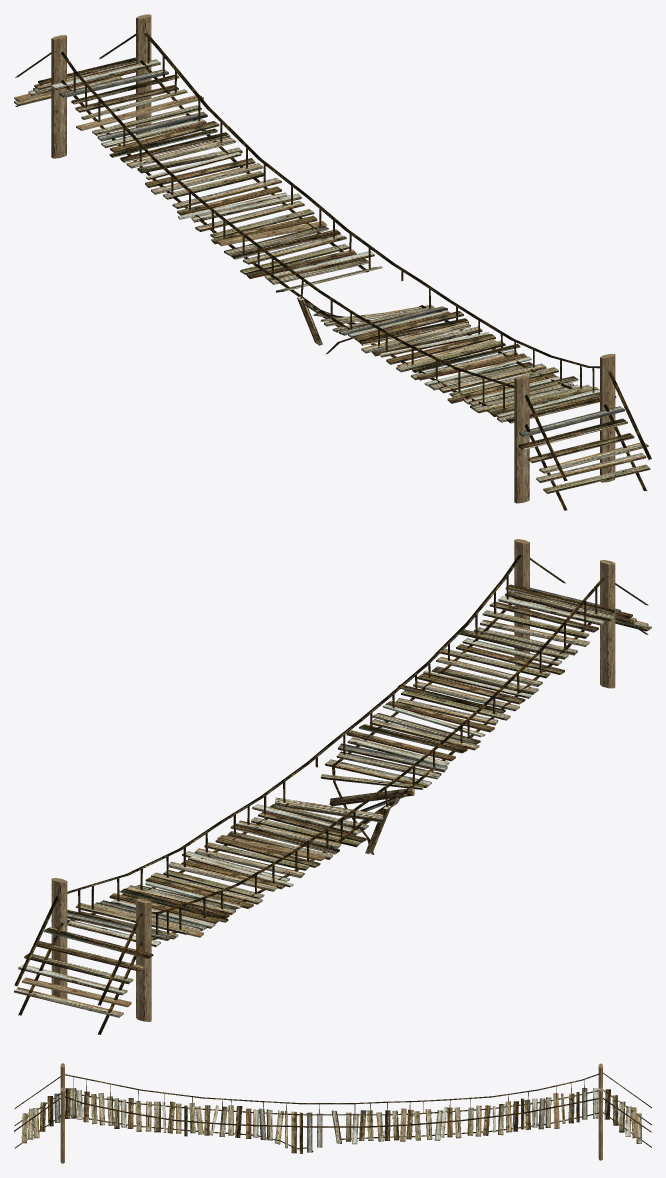
The model's file is broken_rope_bridge_long.glb.
3 renders of one model, top to bottom at view 1: azimuth 30°, elevation 25°; view 2: azimuth 150°, elevation 25°; view 3: azimuth 270°, elevation 25°, orthographic. The views are drawn at different scales.
Size of the model in its own units: 9.2 by 9.88 by 70.33.
Materials: 1 (1 with a texture image).
